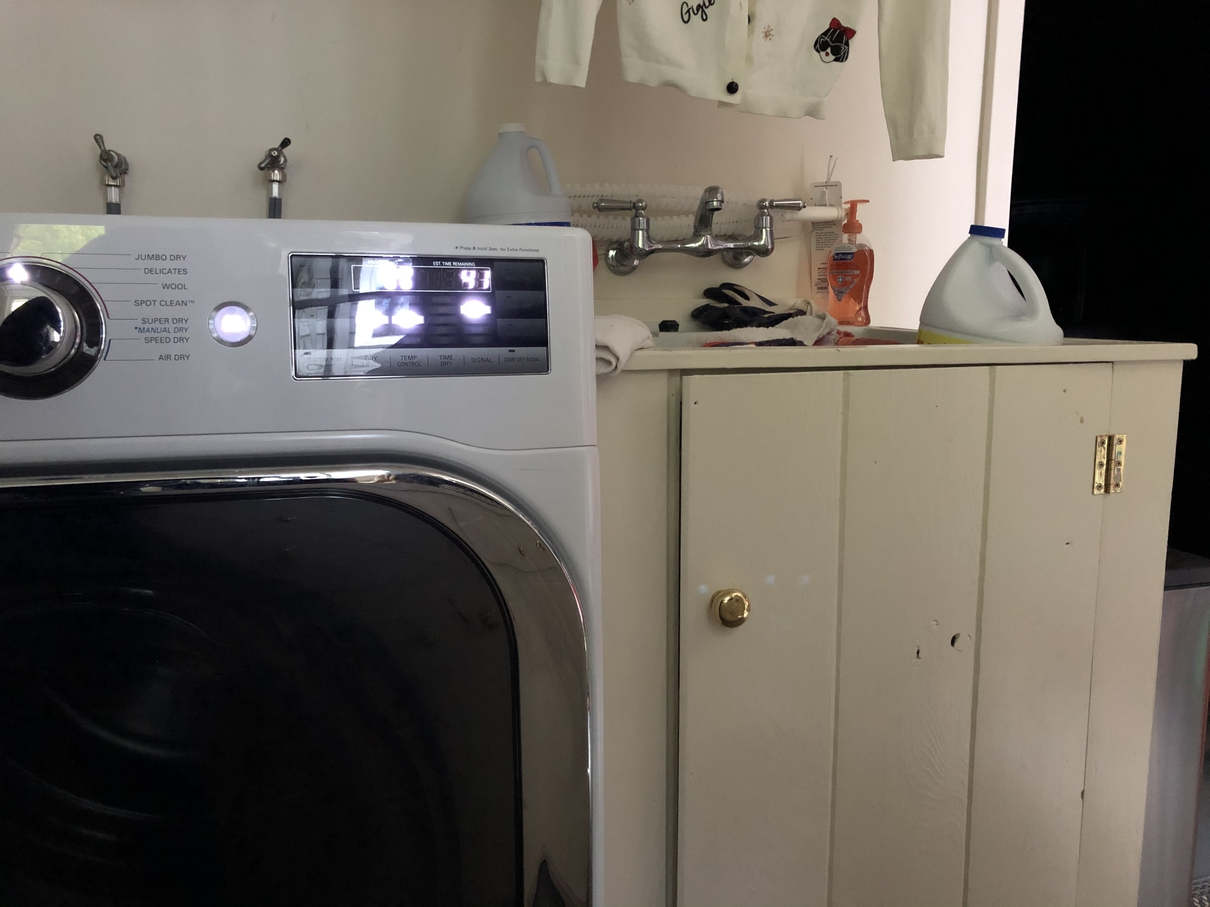status: (340, 255, 495, 297)
